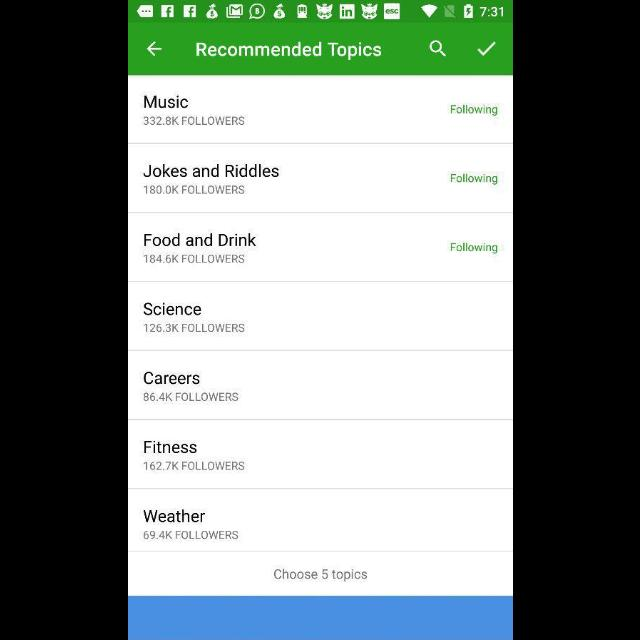icon: (428, 41, 446, 58), (476, 42, 496, 56), (146, 42, 162, 56)
text: (196, 42, 380, 62), (143, 164, 279, 178), (144, 233, 256, 247), (274, 568, 366, 582), (142, 254, 244, 264), (143, 530, 237, 540), (144, 392, 238, 402), (142, 462, 244, 471), (142, 323, 244, 332), (142, 187, 244, 196), (142, 116, 244, 125), (143, 302, 201, 316), (143, 372, 199, 386), (143, 510, 205, 522), (144, 441, 196, 454), (450, 242, 498, 254), (450, 173, 498, 185), (144, 95, 188, 108), (450, 105, 498, 116)
toolbar: (128, 24, 512, 76)
uppertaskbar: (128, 1, 512, 23)
